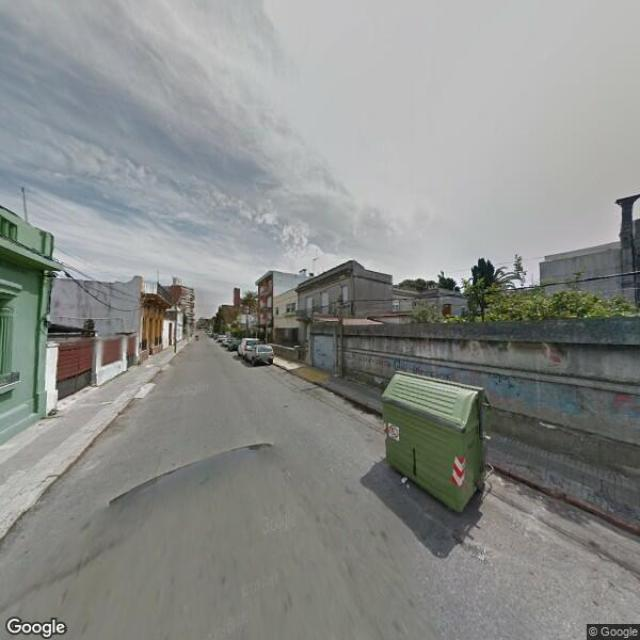garbage container: (374, 364, 512, 528)
